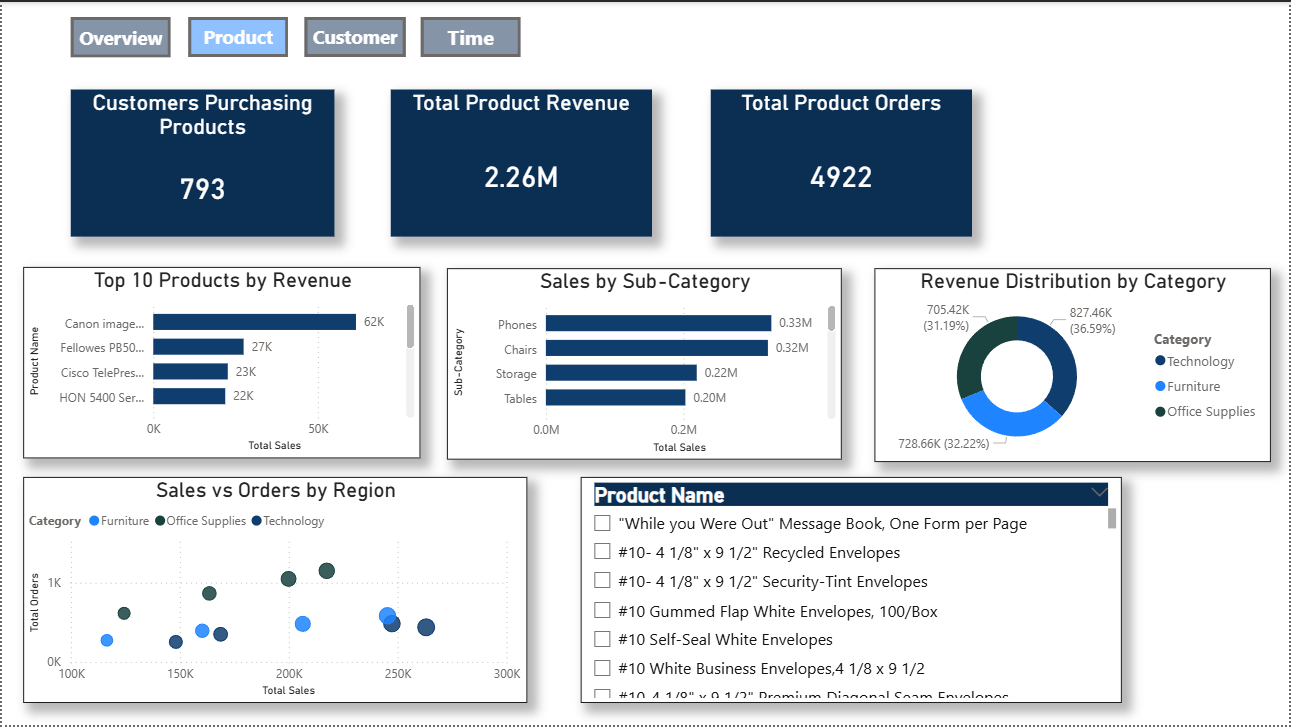

What the dashboard file says about the page in this screenshot:
{"tool":"powerbi","page":{"name":"Product Analysis","canvas":[1280,720],"ordinal":1},"visuals":[{"type":"card","title":"Customers Purchasing Products","fields":{"Values":["FactSales.Total Customers"]},"box":[68.4,87.1,262.5,146.8],"z":0},{"type":"card","title":"Total Product Revenue","fields":{"Values":["FactSales.Total Sales"]},"box":[386.9,87.1,260,146.8],"z":1},{"type":"card","title":"Total Product Orders","fields":{"Values":["FactSales.Total Orders"]},"box":[705.3,87.1,260,146.8],"z":2},{"type":"barChart","title":"Top 10 Products by Revenue","fields":{"Category":["FactSales.Product Name"],"Y":["FactSales.Total Sales"]},"box":[21.1,263.7,395.6,190.3],"z":3},{"type":"barChart","title":"Sales by Sub-Category","fields":{"Category":["FactSales.Sub-Category"],"Y":["FactSales.Total Sales"]},"box":[442.8,265,393.1,190.3],"z":4},{"type":"donutChart","title":"Revenue Distribution by Category","fields":{"Category":["FactSales.Category"],"Y":["FactSales.Total Sales"]},"box":[868.3,265,394.3,192.8],"z":5},{"type":"scatterChart","title":"Sales vs Orders by Region","fields":{"Category":["FactSales.Region"],"Series":["FactSales.Category"],"Size":["FactSales.Total Sales"],"X":["FactSales.Total Sales"],"Y":["FactSales.Total Orders"]},"box":[21.1,472.7,501.3,225.2],"z":6},{"type":"slicer","fields":{"Values":["FactSales.Product Name"]},"box":[576,472.7,538.6,225.2],"z":7},{"type":"actionButton","box":[67.8,14.4,99.6,40.4],"z":8},{"type":"actionButton","title":"Product","box":[185.3,14.9,99.5,39.8],"z":9},{"type":"actionButton","box":[301,14.9,100.8,39.8],"z":10},{"type":"actionButton","box":[416.7,14.9,99.5,39.8],"z":11}]}

Visuals, with their boxes in screenshot pixels (x1, y1, x2, y2), scaled from the page's 1280x720 canvas onto the 1291x728 screenshot:
"Customers Purchasing Products" card: [left=69, top=88, right=334, bottom=236]
"Total Product Revenue" card: [left=390, top=88, right=652, bottom=236]
"Total Product Orders" card: [left=711, top=88, right=974, bottom=236]
"Top 10 Products by Revenue" barChart: [left=21, top=267, right=420, bottom=459]
"Sales by Sub-Category" barChart: [left=447, top=268, right=843, bottom=460]
"Revenue Distribution by Category" donutChart: [left=876, top=268, right=1273, bottom=463]
"Sales vs Orders by Region" scatterChart: [left=21, top=478, right=527, bottom=706]
slicer - FactSales.Product Name: [left=581, top=478, right=1124, bottom=706]
actionButton: [left=68, top=15, right=169, bottom=55]
"Product" actionButton: [left=187, top=15, right=287, bottom=55]
actionButton: [left=304, top=15, right=405, bottom=55]
actionButton: [left=420, top=15, right=521, bottom=55]
